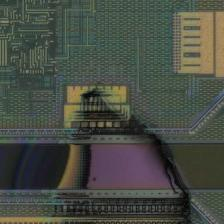BLOCK ETCH: (7, 77, 201, 224)
